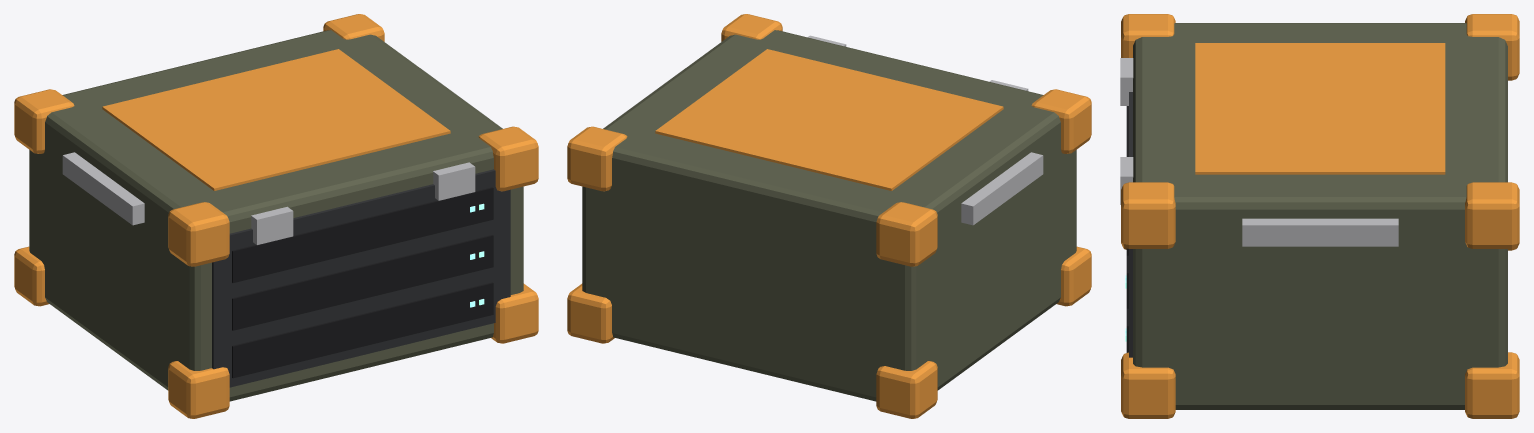
The model's file is ROOT_AER_PortableServer.fbx.
3 views of the same model, side by side, from view 1: azimuth 30°, elevation 25°; view 2: azimuth 150°, elevation 25°; view 3: azimuth 270°, elevation 25° (orthographic). The views are drawn at different scales.
Parts seen in each view (by area): view 1: ROOT_AER_PortableServer_LOD0; view 2: ROOT_AER_PortableServer_LOD0; view 3: ROOT_AER_PortableServer_LOD0.
Part boxes in pixels (x1,y1,x2,y2): ROOT_AER_PortableServer_LOD0: (14, 14, 538, 418); ROOT_AER_PortableServer_LOD0: (567, 14, 1091, 418); ROOT_AER_PortableServer_LOD0: (1120, 14, 1519, 418).
Size of what is drawn, in the model's own units: 59 by 31 by 51.1.
